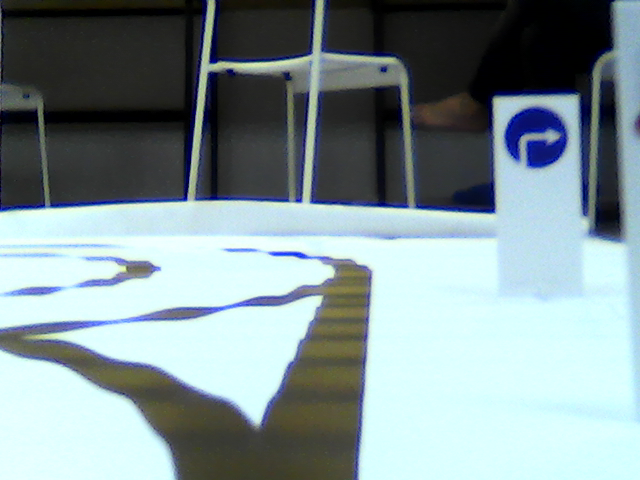Right: (502, 104, 569, 168)
